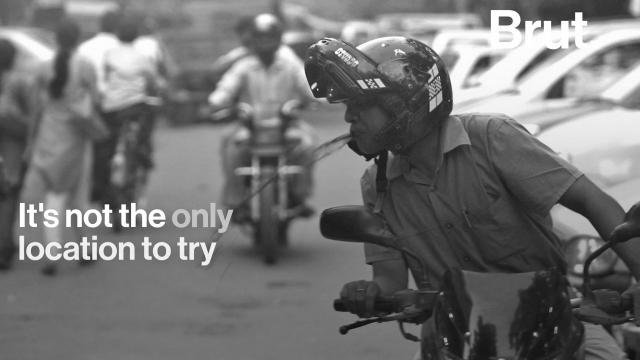spit: (201, 80, 408, 267)
